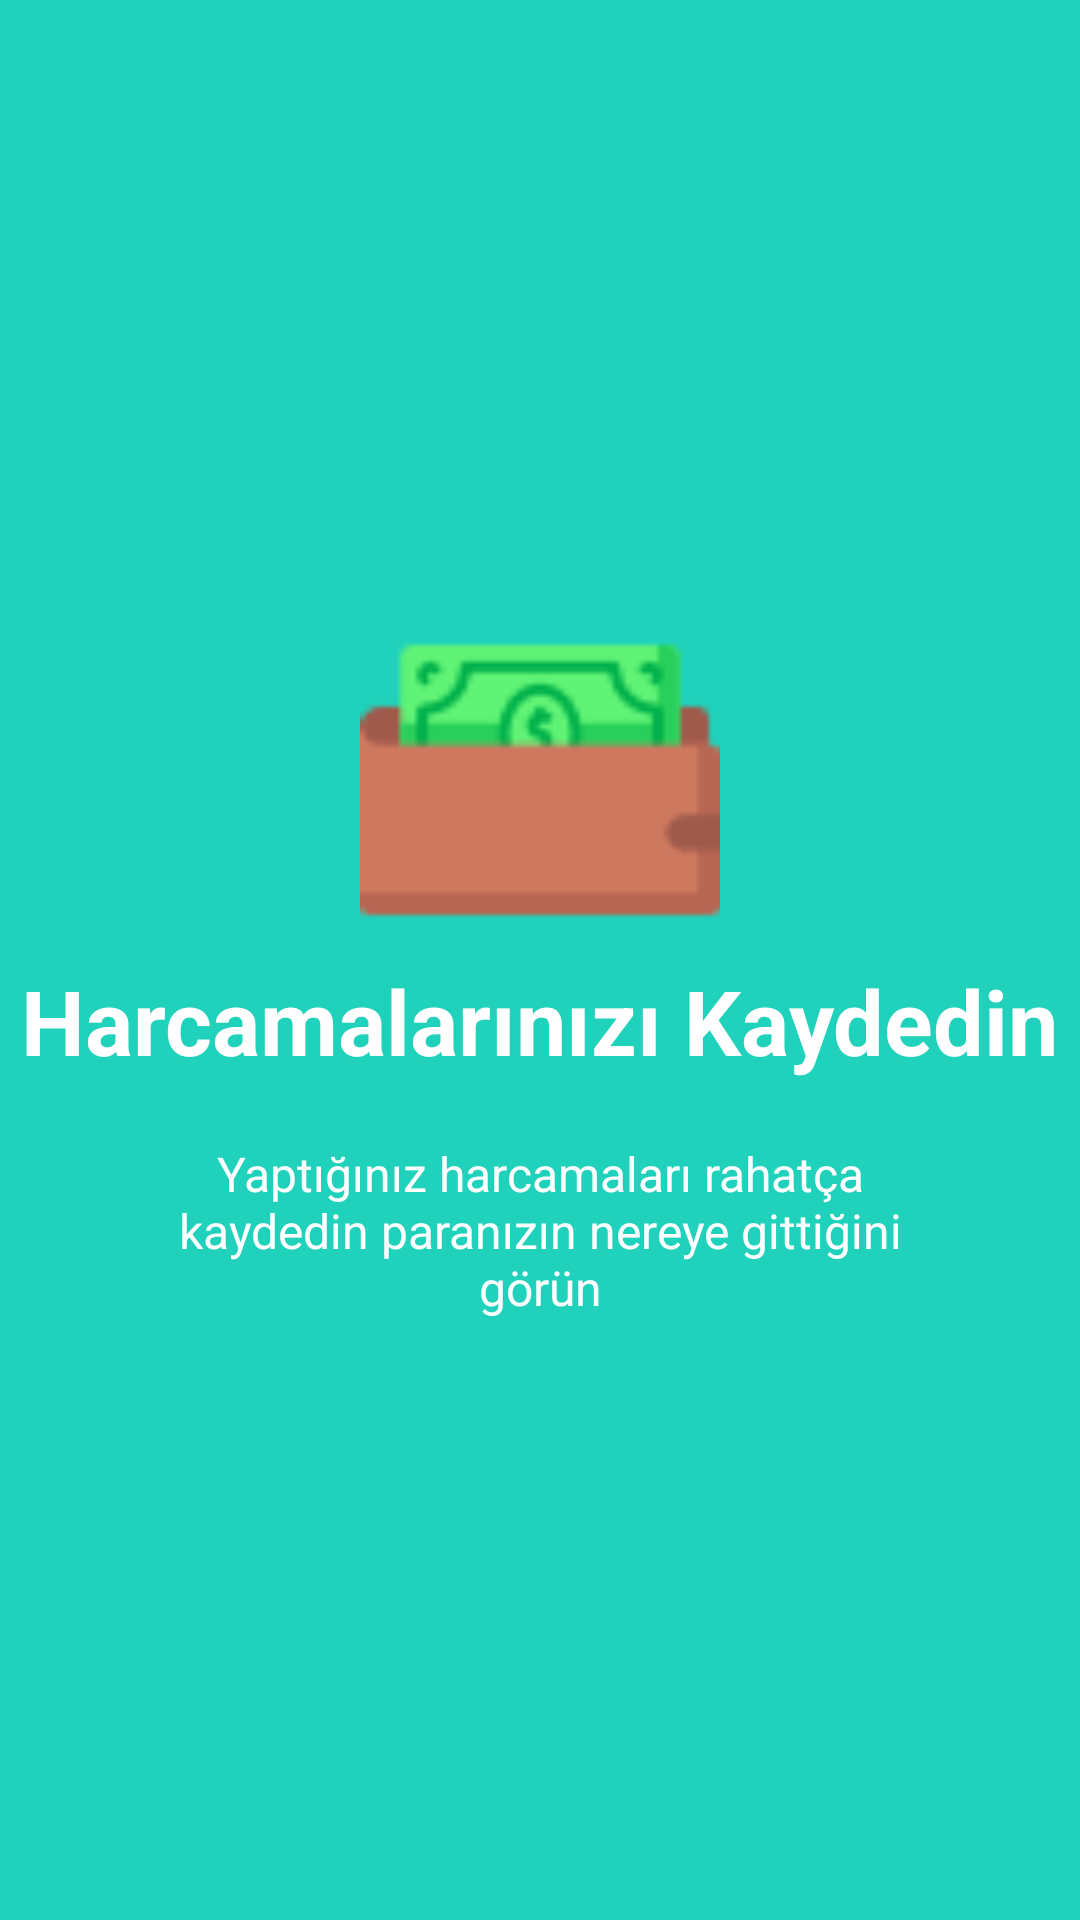

Locate icon controls on the screen. Image size 1080 x 1920, boxes as (x1, y1, x2, y2).
wallet: (360, 644, 720, 917)
